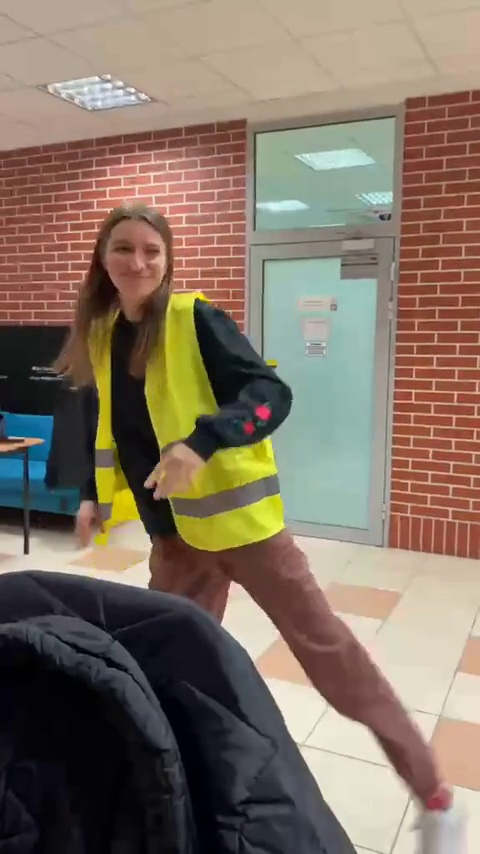vest: (68, 204, 368, 755)
